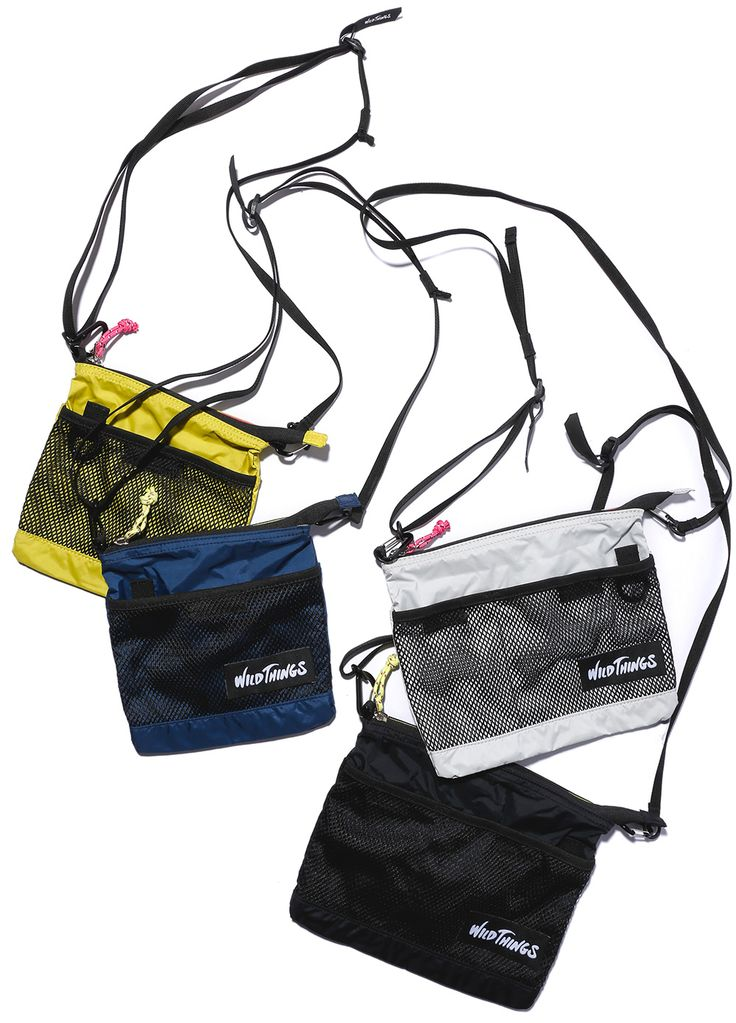nylon: (11, 355, 683, 1012)
